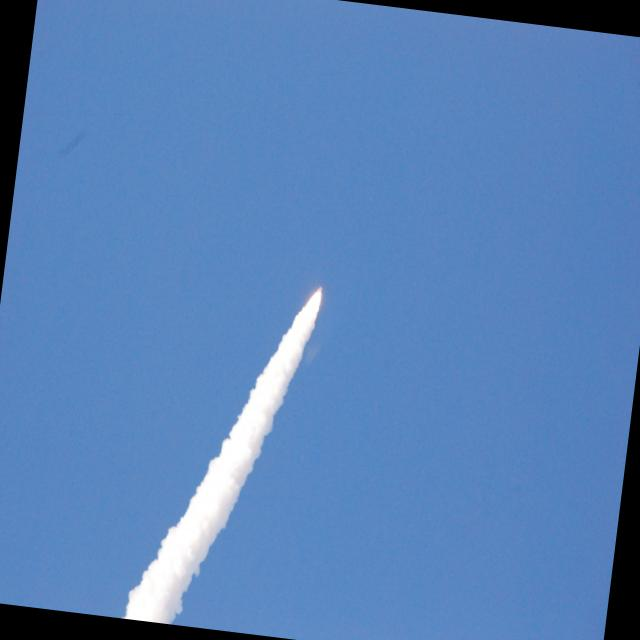rocket: (241, 269, 326, 464)
